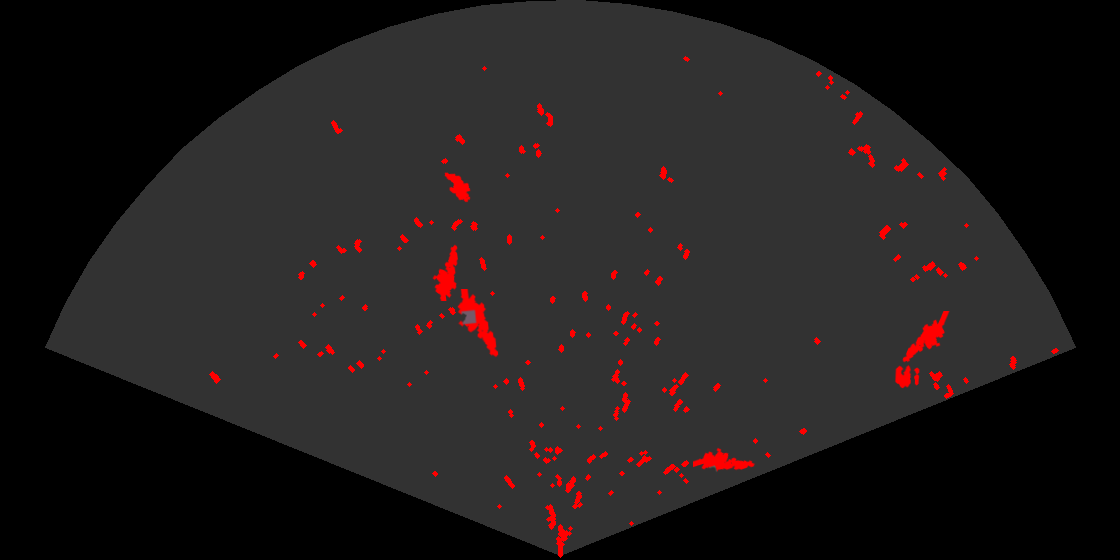AUV: (443, 171, 472, 204)
ball: (893, 363, 921, 390)
frogman: (456, 289, 500, 359), (901, 311, 951, 364), (693, 446, 756, 473), (431, 243, 460, 301)
